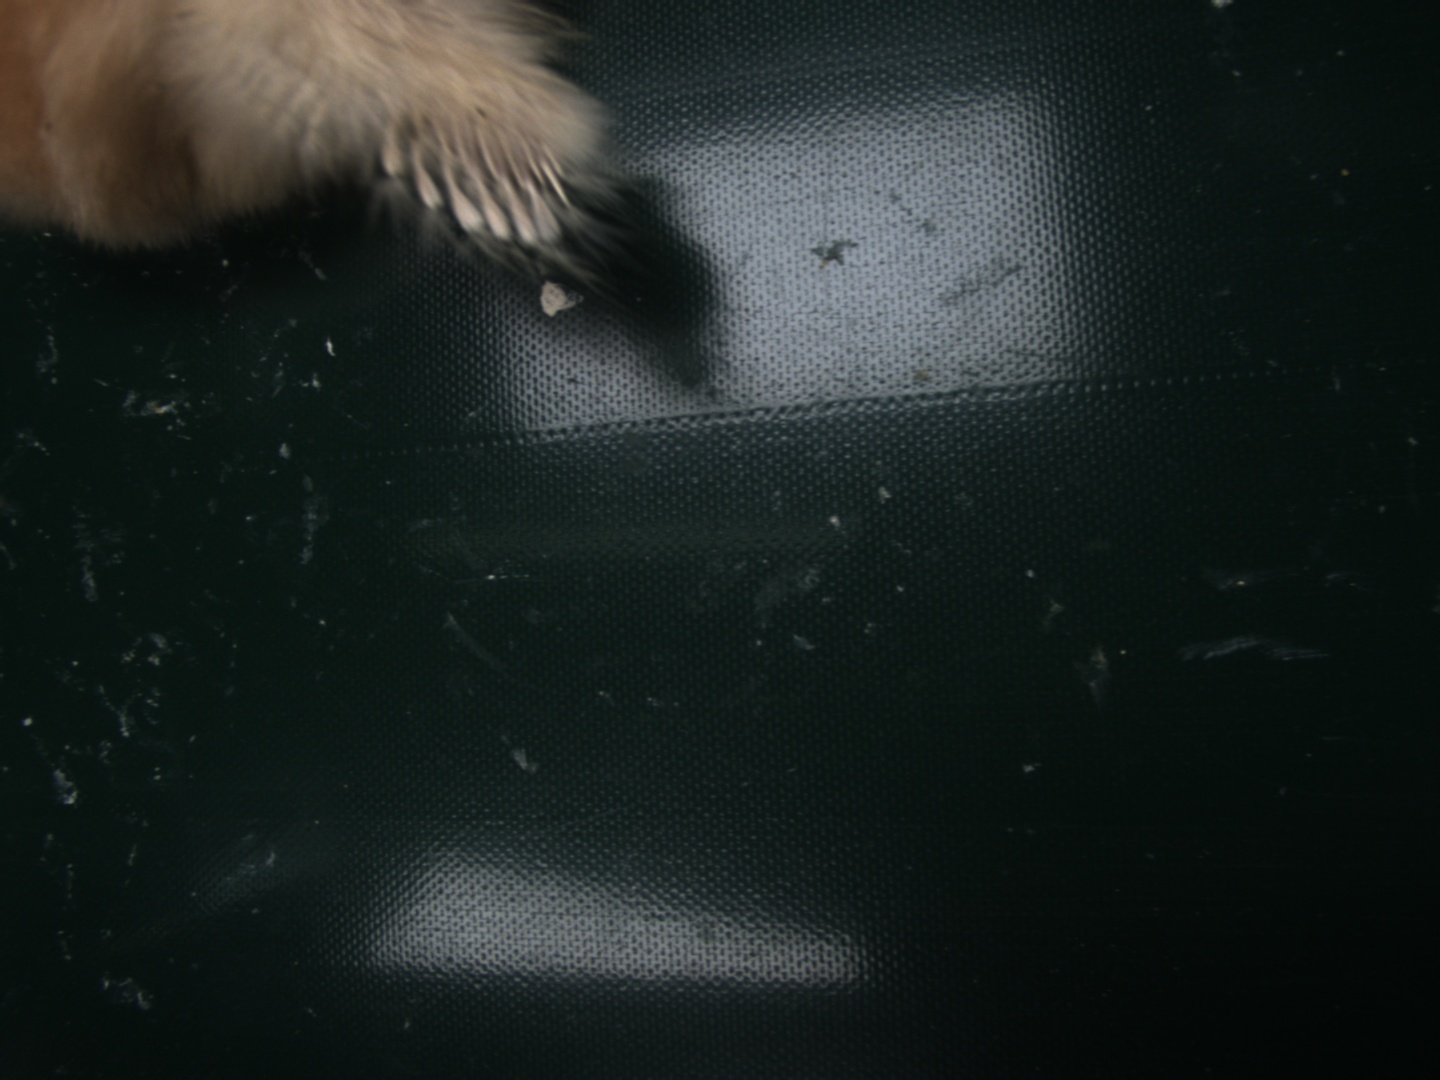female: (381, 93, 577, 246)
